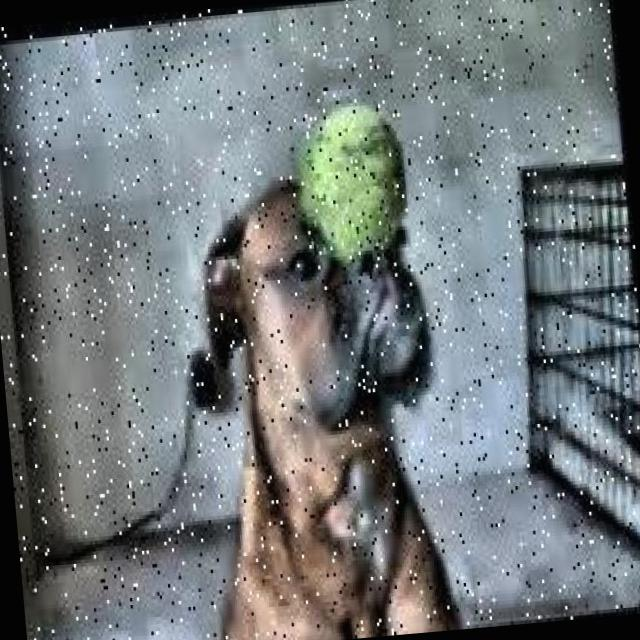Tennis Ball: (294, 97, 413, 258)
